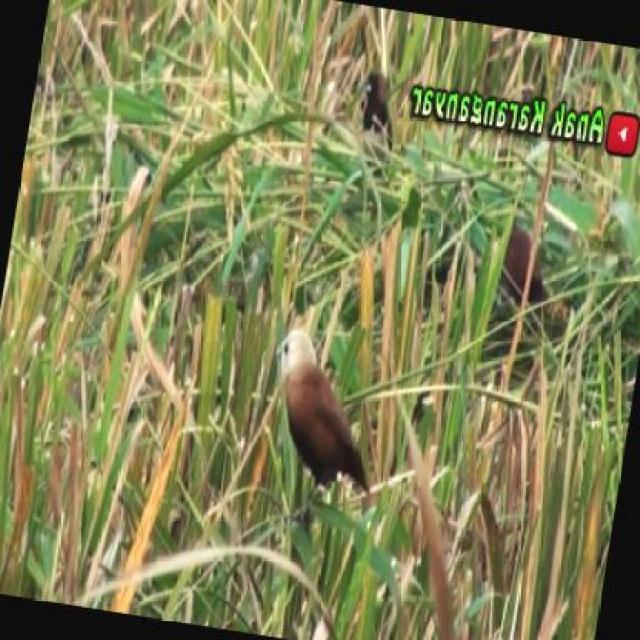Bird: (264, 316, 375, 521), (477, 218, 576, 331), (347, 67, 395, 169)
